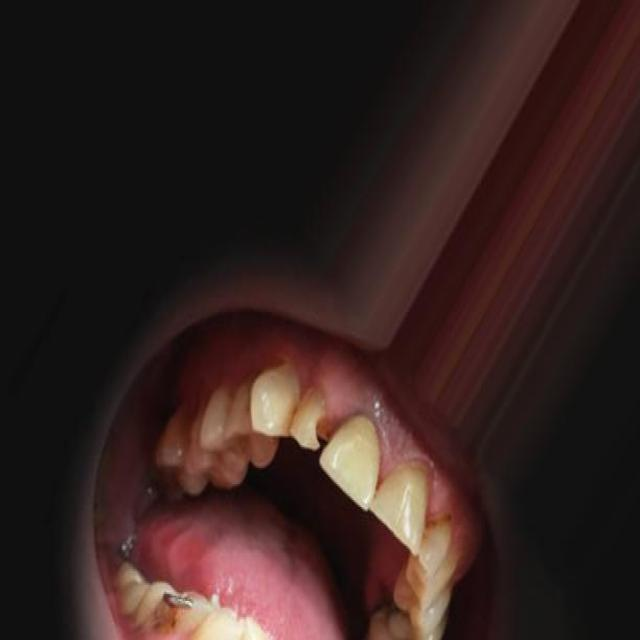caries: (148, 581, 202, 640), (298, 394, 344, 458)
